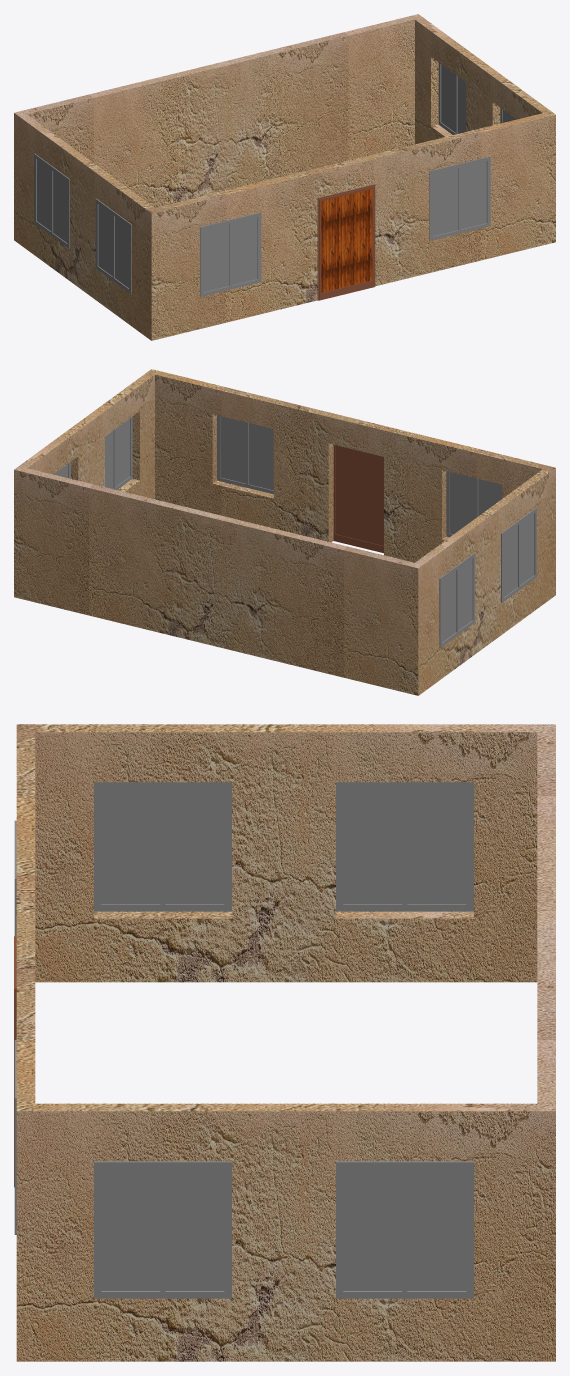
The picture shows the model from 3 angles, top to bottom: view 1: azimuth 30°, elevation 25°; view 2: azimuth 150°, elevation 25°; view 3: azimuth 270°, elevation 25°; orthographic projection. The views are drawn at different scales.
Parts seen in each view (by area): view 1: Rectangle003, CasementWindow011, PivotDoor002; view 2: Rectangle003, CasementWindow011, PivotDoor002; view 3: Rectangle003, CasementWindow011.
Part boxes in pixels (x1,y1,x2,y2): Rectangle003: (14, 14, 555, 340); CasementWindow011: (34, 63, 516, 296); PivotDoor002: (317, 184, 375, 300); Rectangle003: (14, 369, 555, 695); CasementWindow011: (53, 415, 536, 648); PivotDoor002: (333, 445, 383, 553); Rectangle003: (16, 724, 555, 1361); CasementWindow011: (14, 782, 473, 1298).
Bounding box in the file's own units: 733 × 220 × 432.
8 materials, 2 textured.
